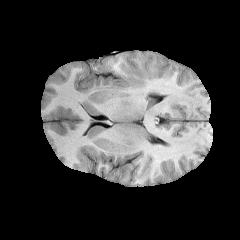glioma: (118, 68, 151, 89)
